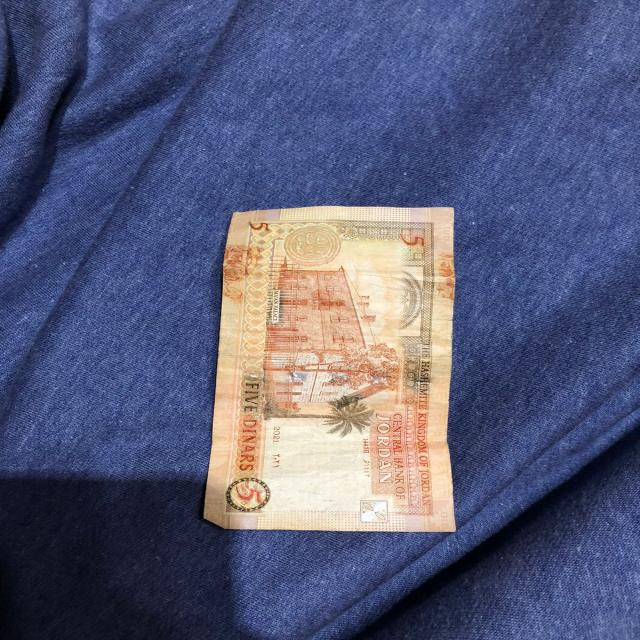5-dinar: (201, 203, 470, 540)
